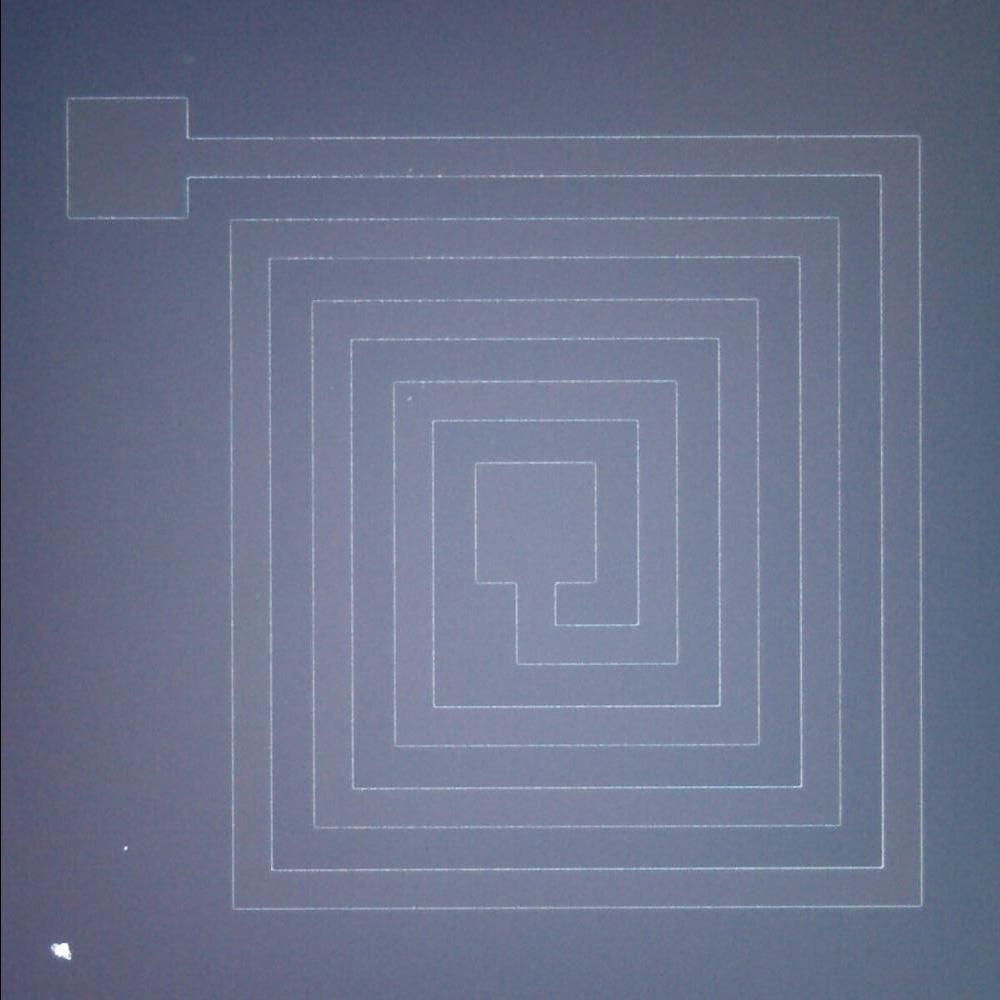dot: (114, 832, 136, 863)
spot: (43, 936, 78, 971)
